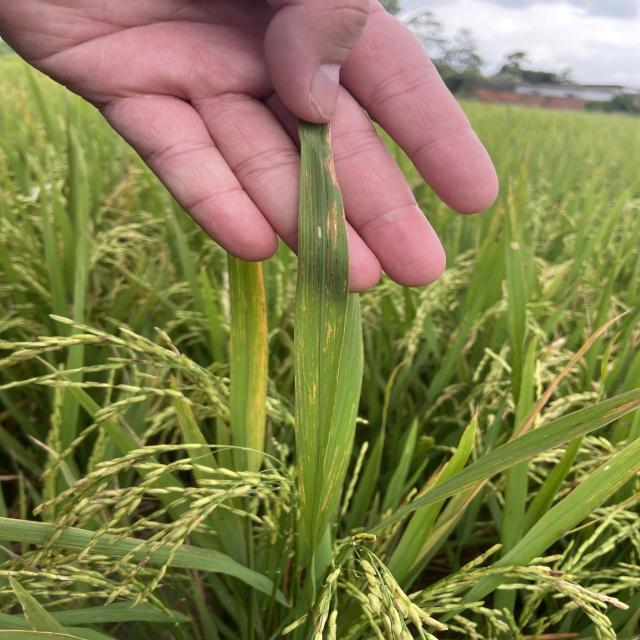Dom soc vi khuan: (331, 200, 338, 254), (326, 212, 331, 271), (301, 208, 305, 273), (304, 168, 309, 209), (327, 322, 332, 351), (342, 270, 348, 292), (317, 220, 322, 246), (316, 280, 320, 306), (316, 331, 319, 352)
